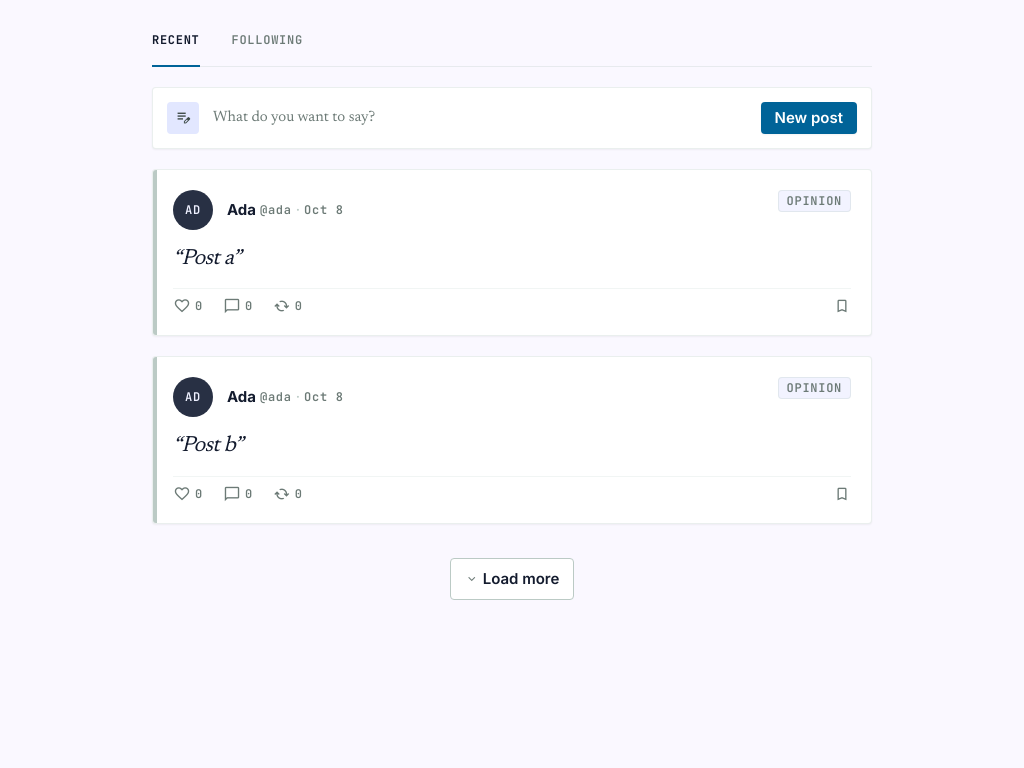
it: HomeFeed › loads more with the cursor, and ends with 'You're caught up.'
Click the button "Load more" at (512, 578), box x1=450 y1=558 x2=574 y2=600
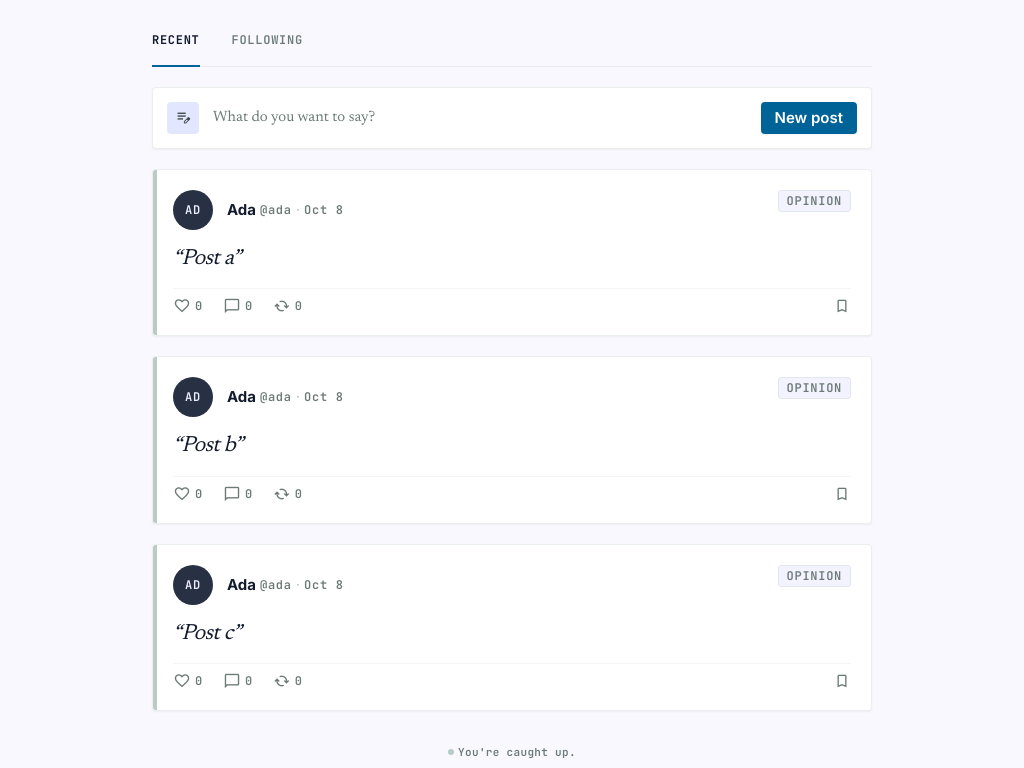
Check: the text "You're caught up." is shown, box x1=448 y1=745 x2=576 y2=759
